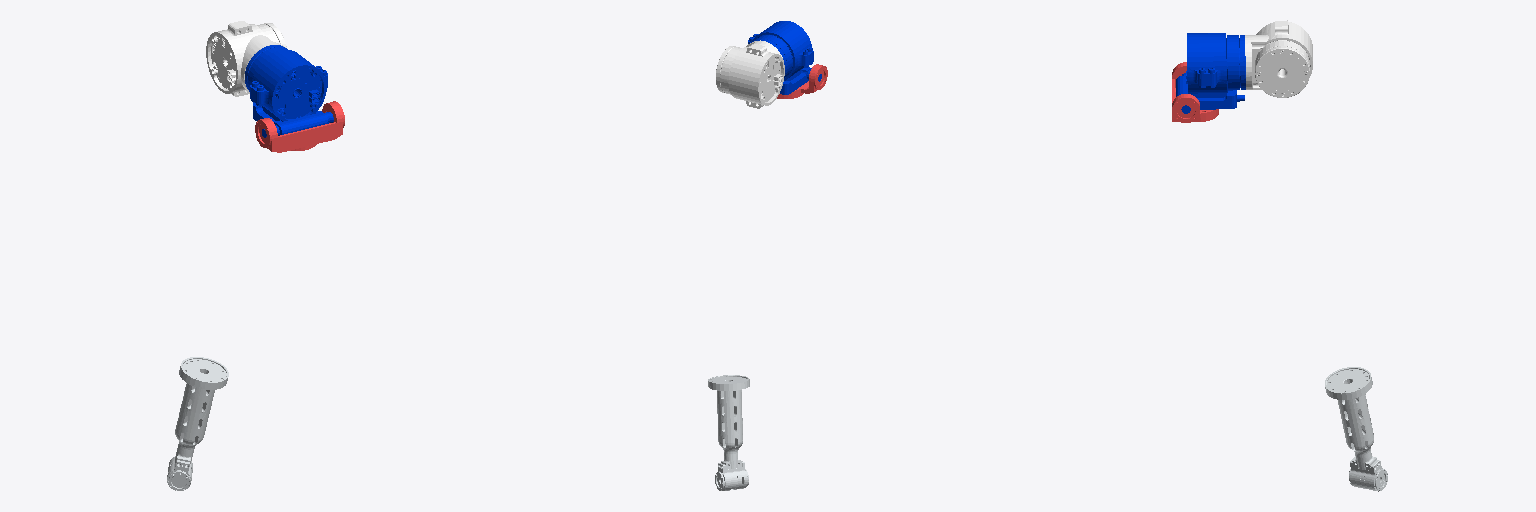
The robot description file, URDF, robot "jianbushangxiajiegouzhuangpeiti-jincouban":
<?xml version="1.0" encoding="utf-8"?>
<!-- This URDF was automatically created by SolidWorks to URDF Exporter! Originally created by Stephen Brawner (brawner@gmail.com) 
     Commit Version: 1.6.0-4-g7f85cfe  Build Version: 1.6.7995.38578
     For more information, please see http://wiki.ros.org/sw_urdf_exporter -->
<robot
  name="jianbushangxiajiegouzhuangpeiti-jincouban">
  <link
    name="base_link">
    <inertial>
      <origin
        xyz="0.00551383477059691 0.00188192011700394 -0.165666333469837"
        rpy="0 0 0" />
      <mass
        value="7.29509510488089" />
      <inertia
        ixx="0.0970510829474155"
        ixy="-4.03439984094099E-08"
        ixz="3.52995923583495E-05"
        iyy="0.0903164128932162"
        iyz="-7.35396392879417E-07"
        izz="0.0195536846911535" />
    </inertial>
    <visual>
      <origin
        xyz="0 0 0"
        rpy="0 0 0" />
      <geometry>
        <mesh
          filename="package://jianbushangxiajiegouzhuangpeiti-jincouban/meshes/base_link.STL" />
      </geometry>
      <material
        name="">
        <color
          rgba="1 1 1 1" />
      </material>
    </visual>
    <collision>
      <origin
        xyz="0 0 0"
        rpy="0 0 0" />
      <geometry>
        <mesh
          filename="package://jianbushangxiajiegouzhuangpeiti-jincouban/meshes/base_link.STL" />
      </geometry>
    </collision>
  </link>
  <link
    name="Joint1">
    <inertial>
      <origin
        xyz="-0.00726272979675435 1.11022302462516E-16 0.0114286276727118"
        rpy="0 0 0" />
      <mass
        value="0.0369705620818919" />
      <inertia
        ixx="1.91249434534182E-05"
        ixy="1.17340610474704E-20"
        ixz="1.09817679043526E-06"
        iyy="8.11140942381028E-06"
        iyz="-2.01710985778133E-20"
        izz="2.25637327554845E-05" />
    </inertial>
    <visual>
      <origin
        xyz="0 0 0"
        rpy="0 0 0" />
      <geometry>
        <mesh
          filename="package://jianbushangxiajiegouzhuangpeiti-jincouban/meshes/Joint1.STL" />
      </geometry>
      <material
        name="">
        <color
          rgba="1 0.372549019607843 0.372549019607843 1" />
      </material>
    </visual>
    <collision>
      <origin
        xyz="0 0 0"
        rpy="0 0 0" />
      <geometry>
        <mesh
          filename="package://jianbushangxiajiegouzhuangpeiti-jincouban/meshes/Joint1.STL" />
      </geometry>
    </collision>
  </link>
  <joint
    name="Joint1"
    type="revolute">
    <origin
      xyz="-0.024373 0.046 0.1235"
      rpy="0 0 1.5708" />
    <parent
      link="base_link" />
    <child
      link="Joint1" />
    <axis
      xyz="0 0 1" />
    <limit
      lower="0"
      upper="0"
      effort="0"
      velocity="0" />
  </joint>
  <link
    name="Joint2">
    <inertial>
      <origin
        xyz="0.0298252292313063 0.0280164911557203 -0.0419452228736368"
        rpy="0 0 0" />
      <mass
        value="0.237246122272694" />
      <inertia
        ixx="9.84731710911669E-05"
        ixy="6.83954946578298E-07"
        ixz="-4.61280711307465E-09"
        iyy="9.35662739778669E-05"
        iyz="-2.02197048909776E-08"
        izz="6.60309446485795E-05" />
    </inertial>
    <visual>
      <origin
        xyz="0 0 0"
        rpy="0 0 0" />
      <geometry>
        <mesh
          filename="package://jianbushangxiajiegouzhuangpeiti-jincouban/meshes/Joint2.STL" />
      </geometry>
      <material
        name="">
        <color
          rgba="0 0.294117647058824 0.905882352941176 1" />
      </material>
    </visual>
    <collision>
      <origin
        xyz="0 0 0"
        rpy="0 0 0" />
      <geometry>
        <mesh
          filename="package://jianbushangxiajiegouzhuangpeiti-jincouban/meshes/Joint2.STL" />
      </geometry>
    </collision>
  </link>
  <joint
    name="Joint2"
    type="revolute">
    <origin
      xyz="-0.011 -0.042 0.023"
      rpy="1.5708 0 0" />
    <parent
      link="Joint1" />
    <child
      link="Joint2" />
    <axis
      xyz="0 0 1" />
    <limit
      lower="0"
      upper="0"
      effort="0"
      velocity="0" />
  </joint>
  <link
    name="Joint3">
    <inertial>
      <origin
        xyz="1.32942578815465E-05 0.00120470119478083 0.0347800967994222"
        rpy="0 0 0" />
      <mass
        value="0.201836581147778" />
      <inertia
        ixx="5.5692399378311E-05"
        ixy="-8.97006310779351E-09"
        ixz="-2.07273534761122E-08"
        iyy="8.81805485386725E-05"
        iyz="-1.64072599151567E-06"
        izz="7.30929475255033E-05" />
    </inertial>
    <visual>
      <origin
        xyz="0 0 0"
        rpy="0 0 0" />
      <geometry>
        <mesh
          filename="package://jianbushangxiajiegouzhuangpeiti-jincouban/meshes/Joint3.STL" />
      </geometry>
      <material
        name="">
        <color
          rgba="1 1 1 1" />
      </material>
    </visual>
    <collision>
      <origin
        xyz="0 0 0"
        rpy="0 0 0" />
      <geometry>
        <mesh
          filename="package://jianbushangxiajiegouzhuangpeiti-jincouban/meshes/Joint3.STL" />
      </geometry>
    </collision>
  </link>
  <joint
    name="Joint3"
    type="revolute">
    <origin
      xyz="0.062726 0.034927 -0.042"
      rpy="-1.5708 0 -1.5482" />
    <parent
      link="Joint2" />
    <child
      link="Joint3" />
    <axis
      xyz="0 0 1" />
    <limit
      lower="0"
      upper="0"
      effort="0"
      velocity="0" />
  </joint>
  <link
    name="Joint4">
    <inertial>
      <origin
        xyz="0.00930516313124452 -0.0532479366018628 -0.0158564146268558"
        rpy="0 0 0" />
      <mass
        value="0.076250140248791" />
      <inertia
        ixx="5.24440745387868E-05"
        ixy="4.29994883196618E-06"
        ixz="1.06840599097455E-06"
        iyy="2.83983411260285E-05"
        iyz="-6.13989769507759E-06"
        izz="6.72452220686016E-05" />
    </inertial>
    <visual>
      <origin
        xyz="0 0 0"
        rpy="0 0 0" />
      <geometry>
        <mesh
          filename="package://jianbushangxiajiegouzhuangpeiti-jincouban/meshes/Joint4.STL" />
      </geometry>
      <material
        name="">
        <color
          rgba="0.525490196078431 0.525490196078431 0.525490196078431 1" />
      </material>
    </visual>
    <collision>
      <origin
        xyz="0 0 0"
        rpy="0 0 0" />
      <geometry>
        <mesh
          filename="package://jianbushangxiajiegouzhuangpeiti-jincouban/meshes/Joint4.STL" />
      </geometry>
    </collision>
  </link>
  <joint
    name="Joint4"
    type="revolute">
    <origin
      xyz="0 -0.0235 0.0385"
      rpy="1.5708 -1.5482 0" />
    <parent
      link="Joint3" />
    <child
      link="Joint4" />
    <axis
      xyz="0 0 1" />
    <limit
      lower="0"
      upper="0"
      effort="0"
      velocity="0" />
  </joint>
  <link
    name="Joint5">
    <inertial>
      <origin
        xyz="0.000678145737368907 -0.000390712202961302 0.10594141143474"
        rpy="0 0 0" />
      <mass
        value="0.367806242261231" />
      <inertia
        ixx="0.000482935054977254"
        ixy="-9.23885315347084E-06"
        ixz="-6.8312208538262E-08"
        iyy="0.000472251464589967"
        iyz="3.19164855151861E-08"
        izz="9.90105632357279E-05" />
    </inertial>
    <visual>
      <origin
        xyz="0 0 0"
        rpy="0 0 0" />
      <geometry>
        <mesh
          filename="package://jianbushangxiajiegouzhuangpeiti-jincouban/meshes/Joint5.STL" />
      </geometry>
      <material
        name="">
        <color
          rgba="0.898039215686275 0.917647058823529 0.929411764705882 1" />
      </material>
    </visual>
    <collision>
      <origin
        xyz="0 0 0"
        rpy="0 0 0" />
      <geometry>
        <mesh
          filename="package://jianbushangxiajiegouzhuangpeiti-jincouban/meshes/Joint5.STL" />
      </geometry>
    </collision>
  </link>
  <joint
    name="Joint5"
    type="revolute">
    <origin
      xyz="0.016877 -0.09684 -0.0245"
      rpy="1.5708 -0.54614 0.17254" />
    <parent
      link="Joint4" />
    <child
      link="Joint5" />
    <axis
      xyz="0 0 -1" />
    <limit
      lower="0"
      upper="0"
      effort="0"
      velocity="0" />
  </joint>
  <link
    name="Joint6">
    <inertial>
      <origin
        xyz="0.0065308042902576 -0.0464797946875887 -0.00907330606583945"
        rpy="0 0 0" />
      <mass
        value="0.132267859786395" />
      <inertia
        ixx="9.34810255621212E-05"
        ixy="6.91058796057215E-06"
        ixz="1.79950058641175E-06"
        iyy="4.48101915430268E-05"
        iyz="-1.28747435697452E-05"
        izz="0.000115386966617591" />
    </inertial>
    <visual>
      <origin
        xyz="0 0 0"
        rpy="0 0 0" />
      <geometry>
        <mesh
          filename="package://jianbushangxiajiegouzhuangpeiti-jincouban/meshes/Joint6.STL" />
      </geometry>
      <material
        name="">
        <color
          rgba="0.898039215686275 0.917647058823529 0.929411764705882 1" />
      </material>
    </visual>
    <collision>
      <origin
        xyz="0 0 0"
        rpy="0 0 0" />
      <geometry>
        <mesh
          filename="package://jianbushangxiajiegouzhuangpeiti-jincouban/meshes/Joint6.STL" />
      </geometry>
    </collision>
  </link>
  <joint
    name="Joint6"
    type="revolute">
    <origin
      xyz="0.023859 -0.013775 0.1928"
      rpy="-1.5708 -0.0039271 -2.0944" />
    <parent
      link="Joint5" />
    <child
      link="Joint6" />
    <axis
      xyz="0 0 -1" />
    <limit
      lower="0"
      upper="0"
      effort="0"
      velocity="0" />
  </joint>
  <link
    name="Joint7">
    <inertial>
      <origin
        xyz="-0.00502688597145079 -6.05860014717963E-05 0.0373102465535438"
        rpy="0 0 0" />
      <mass
        value="0.15550435481653" />
      <inertia
        ixx="0.000140221957615377"
        ixy="1.73479711550344E-08"
        ixz="1.56184962131197E-05"
        iyy="0.000142354028379715"
        iyz="5.0708299501645E-08"
        izz="2.76381126784167E-05" />
    </inertial>
    <visual>
      <origin
        xyz="0 0 0"
        rpy="0 0 0" />
      <geometry>
        <mesh
          filename="package://jianbushangxiajiegouzhuangpeiti-jincouban/meshes/Joint7.STL" />
      </geometry>
      <material
        name="">
        <color
          rgba="0.898039215686275 0.917647058823529 0.929411764705882 1" />
      </material>
    </visual>
    <collision>
      <origin
        xyz="0 0 0"
        rpy="0 0 0" />
      <geometry>
        <mesh
          filename="package://jianbushangxiajiegouzhuangpeiti-jincouban/meshes/Joint7.STL" />
      </geometry>
    </collision>
  </link>
  <joint
    name="Joint7"
    type="revolute">
    <origin
      xyz="0.013821 -0.098636 -0.0245"
      rpy="-1.5677 -0.022536 -3.1377" />
    <parent
      link="Joint6" />
    <child
      link="Joint7" />
    <axis
      xyz="-0.13484 0 0.99087" />
    <limit
      lower="0"
      upper="0"
      effort="0"
      velocity="0" />
  </joint>
</robot>

--- What the picture shows (computed from the rendered views, not written in the file) ---
The picture shows the robot from 3 angles, left to right: view 1: azimuth 30°, elevation 25°; view 2: azimuth 150°, elevation 25°; view 3: azimuth 270°, elevation 25°; orthographic projection.
Robot: jianbushangxiajiegouzhuangpeiti-jincouban — 8 links, 7 joints (7 revolute); root link base_link; default pose: all joints at 0.
Links seen in each view (by area): view 1: Joint2, Joint7, Joint3, Joint1; view 2: Joint3, Joint7, Joint2, Joint1; view 3: Joint2, Joint3, Joint7, Joint1.
Link boxes in pixels (x1=…): Joint2: x1=245, y1=45, x2=333, y2=137; Joint7: x1=167, y1=357, x2=228, y2=490; Joint3: x1=206, y1=21, x2=286, y2=96; Joint1: x1=255, y1=101, x2=344, y2=152; Joint3: x1=716, y1=40, x2=784, y2=108; Joint7: x1=708, y1=375, x2=749, y2=490; Joint2: x1=748, y1=21, x2=821, y2=94; Joint1: x1=777, y1=64, x2=827, y2=98; Joint2: x1=1176, y1=33, x2=1245, y2=113; Joint3: x1=1245, y1=20, x2=1312, y2=97; Joint7: x1=1325, y1=367, x2=1387, y2=491; Joint1: x1=1172, y1=62, x2=1218, y2=122.
Bounding box of the posed robot: 0.0928 × 0.2271 × 0.5479 m (x, y, z).
4 mesh visuals loaded from 8 distinct referenced files (4 binary STL); not drawn: 4 (reference not matched to a file when rendering).
